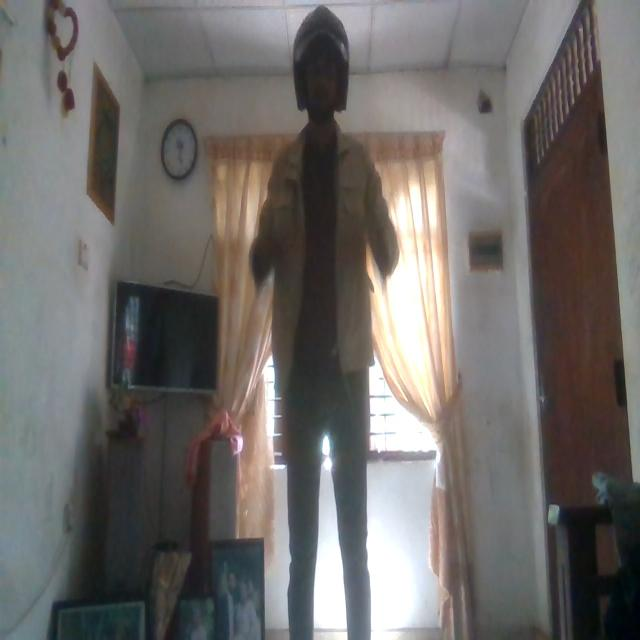Helmet_Wearer: (291, 5, 349, 127)
Jacket_Wearer: (252, 130, 402, 381)
Person: (252, 11, 405, 640)
